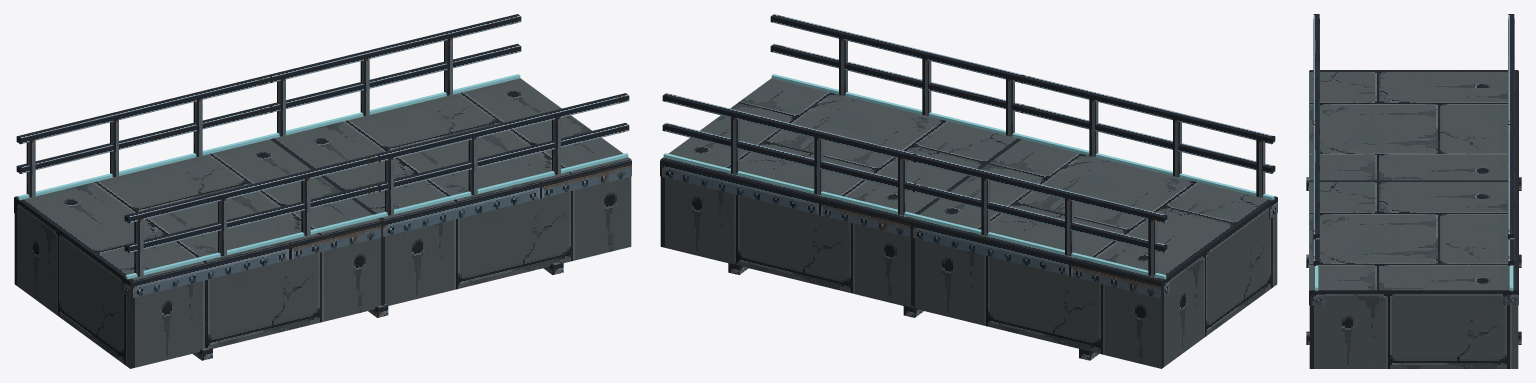
File: bridge_span_6.glb
3 views of the same model, side by side, from view 1: azimuth 30°, elevation 25°; view 2: azimuth 150°, elevation 25°; view 3: azimuth 270°, elevation 25° (orthographic). The views are drawn at different scales.
Parts seen in each view (by area): view 1: bridge_span_6; view 2: bridge_span_6; view 3: bridge_span_6.
Part boxes in pixels (x1=…): bridge_span_6: x1=14, y1=14, x2=631, y2=368; bridge_span_6: x1=660, y1=14, x2=1277, y2=368; bridge_span_6: x1=1306, y1=14, x2=1521, y2=368.
Bounding box in the file's own units: 6 × 1.8 × 2.48.
2 materials, 1 textured.
